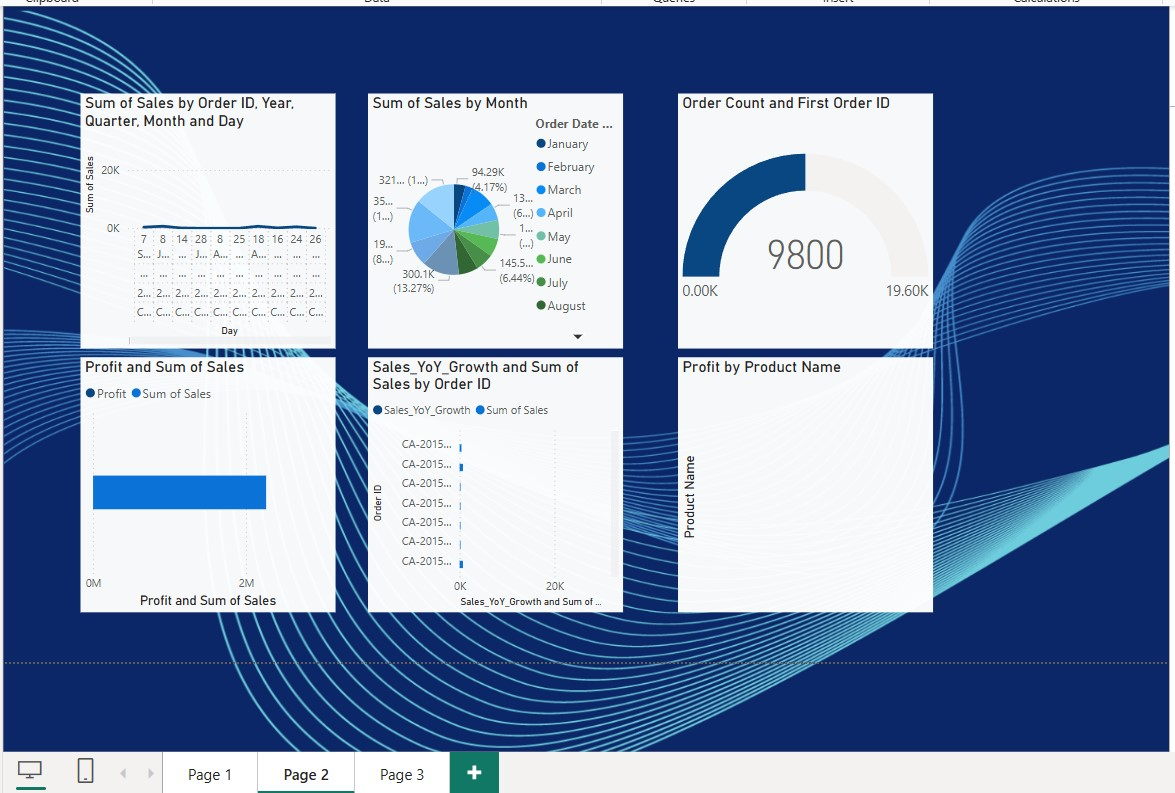

Layout of this report page (visuals, bound fields, positions):
{"tool":"powerbi","page":{"name":"Page 2","canvas":[1280,720],"ordinal":1},"visuals":[{"type":"areaChart","fields":{"Category":["train.Order ID","train.Order Date.Variation.Date Hierarchy.Year","train.Order Date.Variation.Date Hierarchy.Quarter","train.Order Date.Variation.Date Hierarchy.Month","train.Order Date.Variation.Date Hierarchy.Day"],"Y":["Sum(train.Sales)"]},"box":[85.1,96.1,279.9,279.9],"z":0},{"type":"pieChart","fields":{"Y":["Sum(train.Sales)"],"Category":["train.Order Date.Variation.Date Hierarchy.Month"]},"box":[400.7,96.1,279.9,279.9],"z":1},{"type":"gauge","fields":{"Y":["train.Order Count"]},"box":[741,96.1,279.9,279.9],"z":2},{"type":"barChart","fields":{"Y":["train.Profit","Sum(train.Sales)"]},"box":[85,386,280,280],"z":3},{"type":"clusteredBarChart","fields":{"Y":["train.Sales_YoY_Growth","Sum(train.Sales)"],"Category":["train.Order ID"]},"box":[401,386,280,280],"z":4},{"type":"barChart","fields":{"Category":["train.Product Name"],"Y":["train.Profit"]},"box":[741,386,280,280],"z":5}]}

Visuals, with their boxes in screenshot pixels (x1, y1, x2, y2):
areaChart - train.Order ID x train.Order Date.Variation.Date Hierarchy.Year: BBox(80, 93, 333, 347)
pieChart - Sum(train.Sales) x train.Order Date.Variation.Date Hierarchy.Month: BBox(366, 93, 619, 347)
gauge - train.Order Count: BBox(674, 93, 927, 347)
barChart - train.Profit x Sum(train.Sales): BBox(80, 356, 333, 609)
clusteredBarChart - train.Sales_YoY_Growth x Sum(train.Sales): BBox(366, 356, 620, 609)
barChart - train.Product Name x train.Profit: BBox(674, 356, 927, 609)
